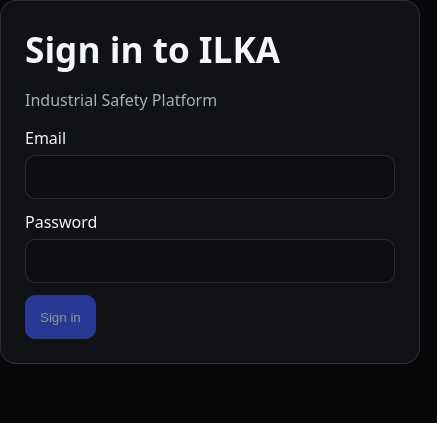
LoginView › reports the skeleton status when the backend login endpoint is not implemented
The width and height of the screenshot is (437, 423).
Type "user@example.com" into the field labelled "Email". click: (210, 177)
box: [25,155,395,199]
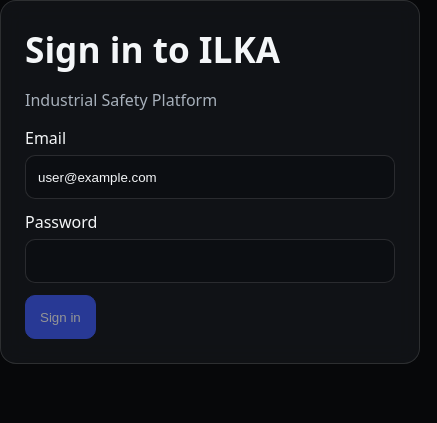
Type "password" into the password field labelled "Password". click: (210, 261)
box: [25,239,395,283]
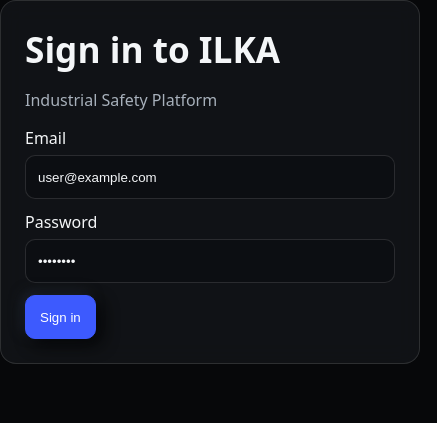
Click the button "Sign in". click: (60, 317)
box: [25,295,96,339]
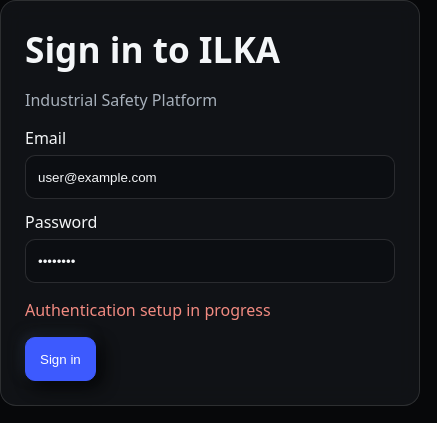
Result: the message reads "Authentication setup in progress" at [25,299,271,321]
